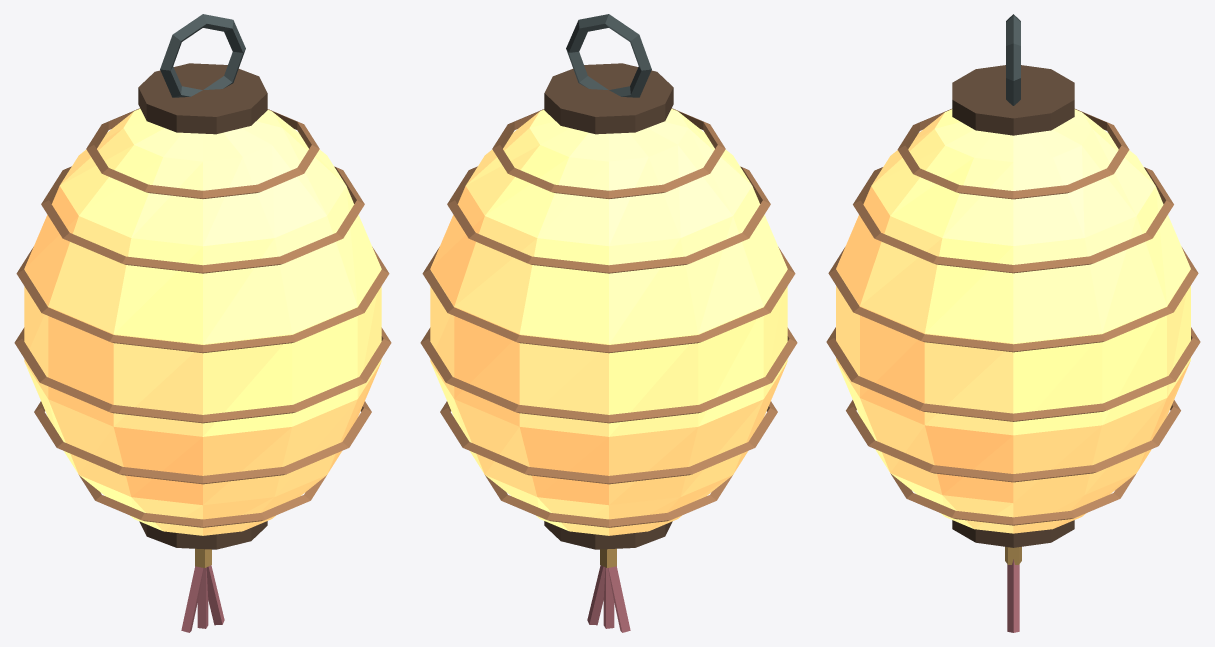
File: decor_paper_lantern.glb
3 renders of one model, left to right at view 1: azimuth 30°, elevation 25°; view 2: azimuth 150°, elevation 25°; view 3: azimuth 270°, elevation 25°, orthographic.
Parts seen in each view (by area): view 1: light, geometry; view 2: light, geometry; view 3: light, geometry.
Part boxes in pixels (bbox=[...]): light: bbox=[24, 108, 381, 535]; geometry: bbox=[14, 14, 391, 632]; light: bbox=[430, 108, 787, 535]; geometry: bbox=[420, 14, 797, 632]; light: bbox=[836, 109, 1190, 533]; geometry: bbox=[826, 14, 1200, 632].
Size of the model in its own units: 0.4937 by 0.8869 by 0.4937.
